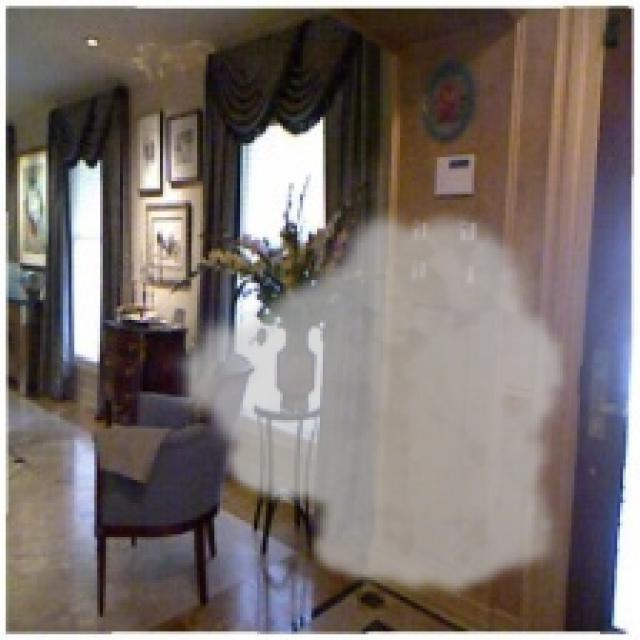Smoke: (166, 200, 572, 600)
